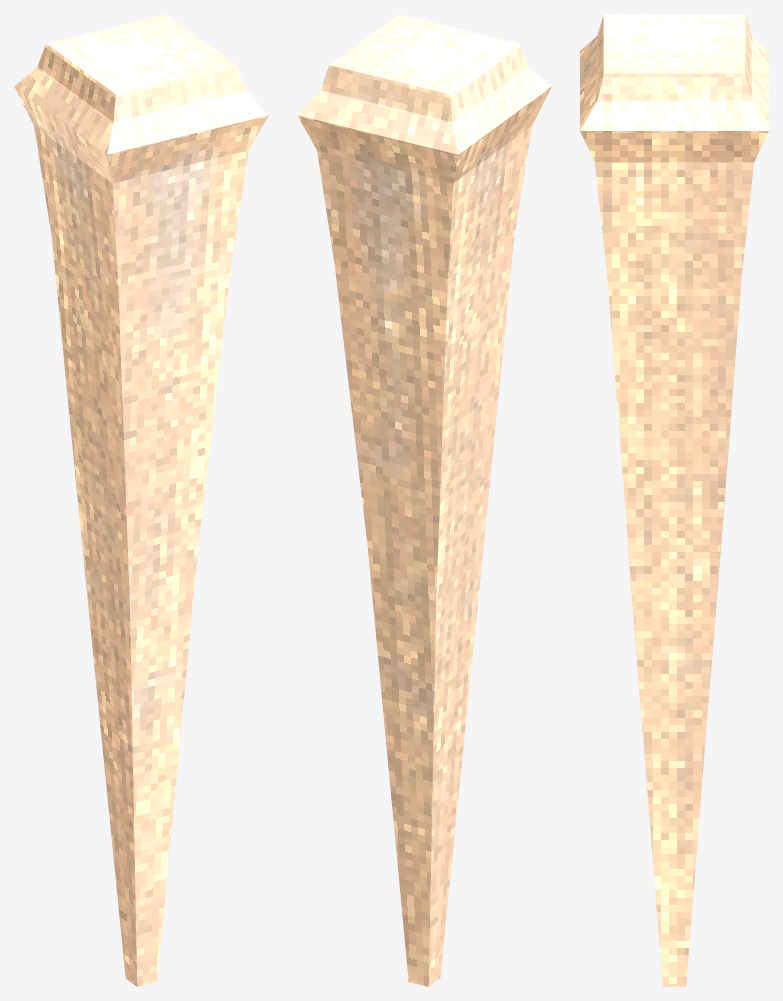
The model's file is nail.glb.
3 renders of one model, left to right at view 1: azimuth 30°, elevation 25°; view 2: azimuth 150°, elevation 25°; view 3: azimuth 270°, elevation 25°, orthographic.
Parts seen in each view (by area): view 1: Nail; view 2: Nail; view 3: Nail.
Part boxes in pixels (<box>): Nail: <box>14,14,268,986</box>; Nail: <box>297,14,551,986</box>; Nail: <box>580,14,768,986</box>.
Size of the model in its own units: 0.2931 by 1.61 by 0.2931.
